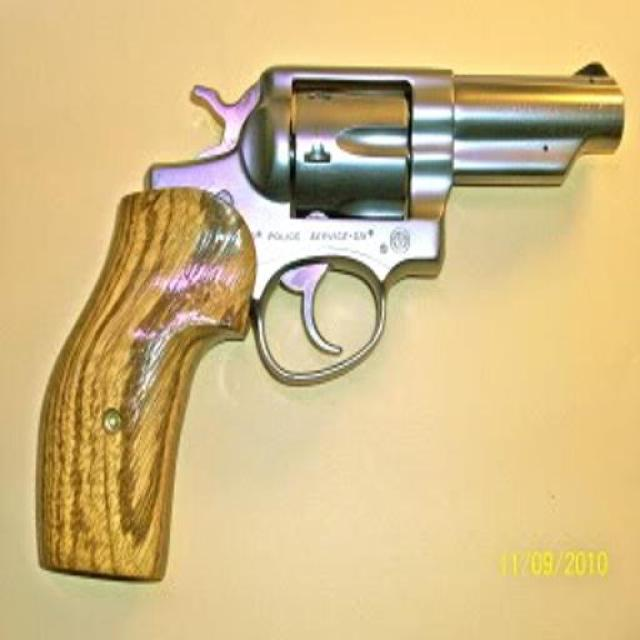pistol: (25, 57, 625, 581)
